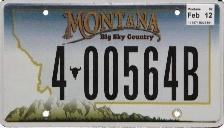0: (101, 44, 121, 103), (82, 44, 100, 102)
4: (49, 43, 71, 102), (162, 44, 182, 101)
5: (122, 44, 140, 101)
6: (142, 44, 161, 102)
B: (182, 44, 201, 102)
